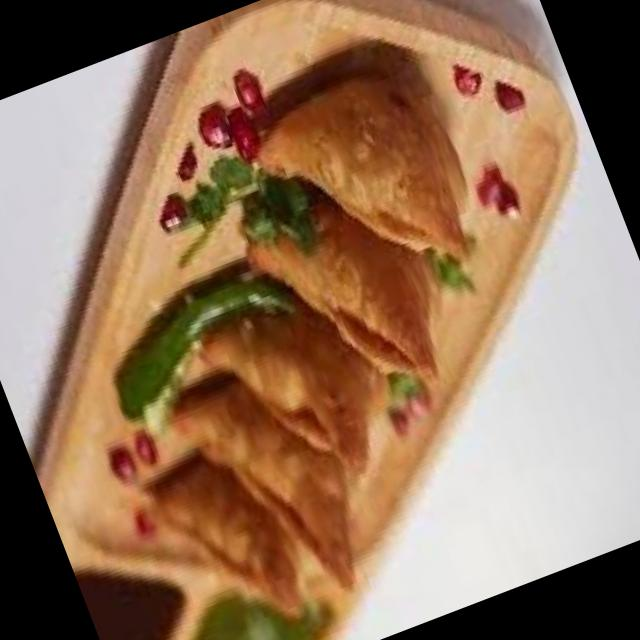samosa: (238, 48, 494, 318), (232, 155, 479, 431), (162, 341, 386, 628), (188, 268, 412, 514), (136, 436, 324, 640)
